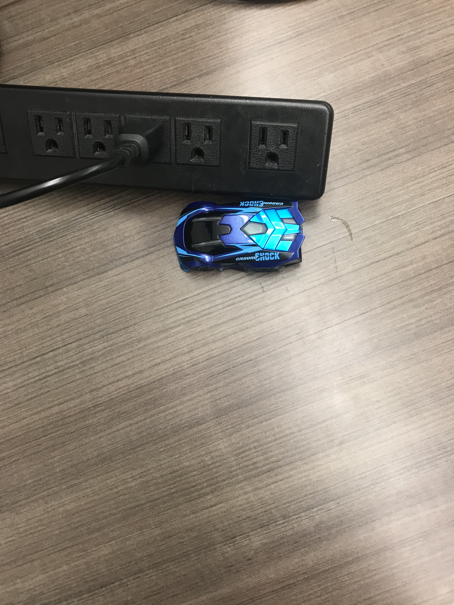Shock: (173, 197, 306, 274)
